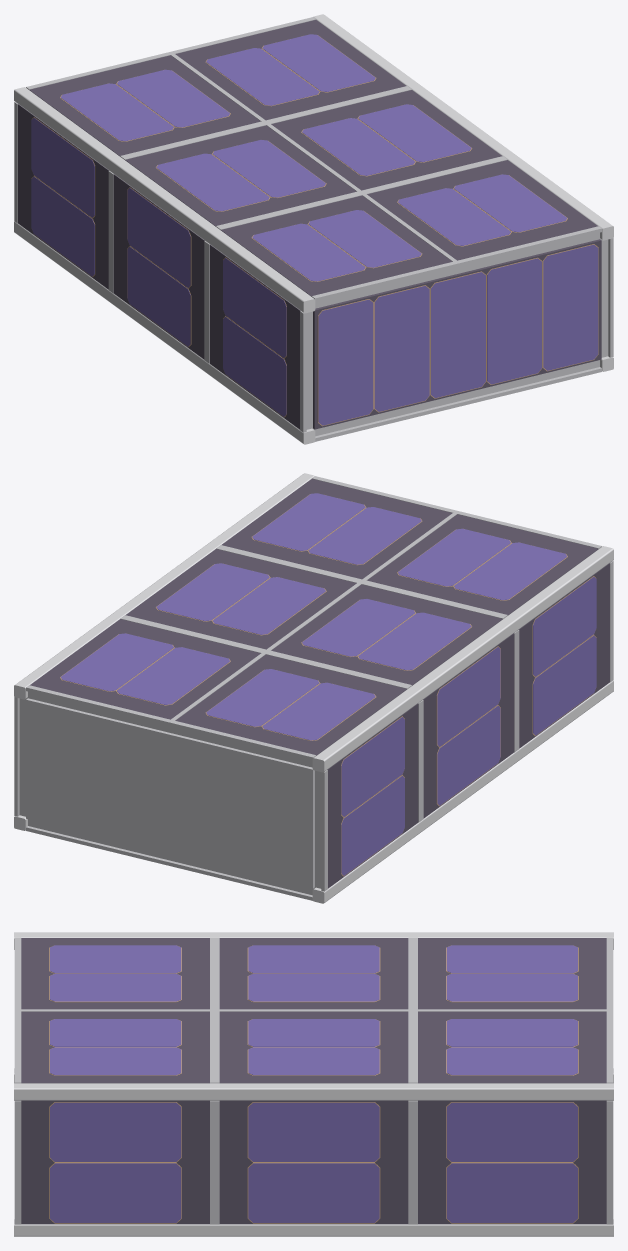
Rendered from CDS_6U_nasa_style.glb.
The picture shows the model from 3 angles, top to bottom: view 1: azimuth 30°, elevation 25°; view 2: azimuth 150°, elevation 25°; view 3: azimuth 270°, elevation 25°; orthographic projection. The views are drawn at different scales.
Parts seen in each view (by area): view 1: solar_panel_pZ_cells, structure_band_pY, solar_panel_mX_z2_cells, solar_panel_mX_z1_cells, solar_panel_mX_z3_cells, solar_panel_pY_z1_x1_cells, solar_panel_pY_z1_x2_cells, solar_panel_pY_z2_x1_cells, solar_panel_pY_z3_x1_cells, solar_panel_pY_z3_x2_cells, solar_panel_pY_z2_x2_cells, rail_mX_pY (+17 smaller); view 2: structure_endplate_mZ, structure_band_pY, solar_panel_mX_z2_cells, solar_panel_mX_z1_cells, solar_panel_mX_z3_cells, solar_panel_pY_z1_x1_cells, solar_panel_pY_z1_x2_cells, solar_panel_pY_z2_x1_cells, solar_panel_pY_z3_x1_cells, solar_panel_pY_z3_x2_cells, solar_panel_pY_z2_x2_cells, rail_mX_pY (+15 smaller); view 3: solar_panel_pX_z1_cells, solar_panel_pX_z3_cells, solar_panel_pX_z2_cells, rail_pX_pY, solar_panel_pX_z2_substrate, rail_pX_mY, solar_panel_pX_z1_substrate, solar_panel_pX_z3_substrate, solar_panel_pY_z2_x2_cells, solar_panel_pY_z1_x2_cells, solar_panel_pY_z3_x2_cells, solar_panel_pY_z1_x1_cells (+18 smaller).
Part boxes in pixels (x1,y1,x2,y2): solar_panel_pZ_cells: [318, 244, 598, 425]; structure_band_pY: [26, 17, 601, 301]; solar_panel_mX_z2_cells: [127, 188, 190, 346]; solar_panel_mX_z1_cells: [31, 118, 94, 276]; solar_panel_mX_z3_cells: [223, 258, 286, 416]; solar_panel_pY_z1_x1_cells: [206, 34, 375, 105]; solar_panel_pY_z1_x2_cells: [60, 69, 229, 141]; solar_panel_pY_z2_x1_cells: [302, 104, 471, 175]; solar_panel_pY_z3_x1_cells: [397, 174, 567, 245]; solar_panel_pY_z3_x2_cells: [252, 210, 421, 281]; solar_panel_pY_z2_x2_cells: [156, 140, 325, 211]; rail_mX_pY: [14, 87, 315, 313]; structure_endplate_mZ: [26, 698, 314, 888]; structure_band_pY: [26, 476, 601, 760]; solar_panel_mX_z2_cells: [437, 647, 500, 805]; solar_panel_mX_z1_cells: [341, 717, 404, 875]; solar_panel_mX_z3_cells: [533, 577, 596, 735]; solar_panel_pY_z1_x1_cells: [60, 633, 230, 704]; solar_panel_pY_z1_x2_cells: [206, 669, 375, 740]; solar_panel_pY_z2_x1_cells: [156, 563, 325, 634]; solar_panel_pY_z3_x1_cells: [252, 493, 421, 564]; solar_panel_pY_z3_x2_cells: [398, 528, 567, 600]; solar_panel_pY_z2_x2_cells: [302, 599, 471, 670]; rail_mX_pY: [312, 546, 613, 772]; solar_panel_pX_z1_cells: [446, 1102, 577, 1222]; solar_panel_pX_z3_cells: [50, 1102, 181, 1222]; solar_panel_pX_z2_cells: [248, 1102, 379, 1222]; rail_pX_pY: [14, 1083, 613, 1100]; solar_panel_pX_z2_substrate: [219, 1100, 408, 1224]; rail_pX_mY: [14, 1219, 613, 1236]; solar_panel_pX_z1_substrate: [418, 1100, 606, 1224]; solar_panel_pX_z3_substrate: [21, 1100, 209, 1224]; solar_panel_pY_z2_x2_cells: [248, 945, 379, 1001]; solar_panel_pY_z1_x2_cells: [446, 945, 577, 1001]; solar_panel_pY_z3_x2_cells: [50, 945, 181, 1001]; solar_panel_pY_z1_x1_cells: [446, 1019, 577, 1075].
Bounding box in the file's own units: 0.2263 × 0.1 × 0.366.
